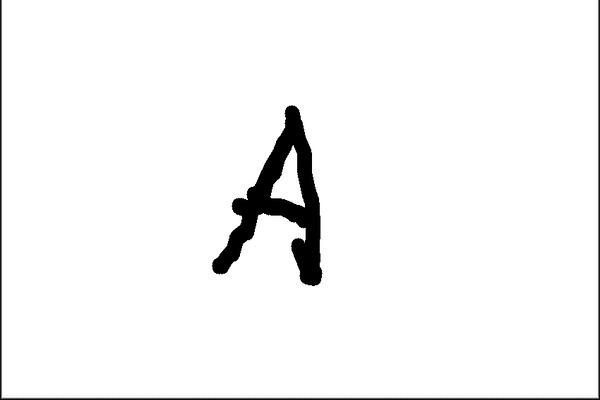A: (195, 98, 340, 291)
